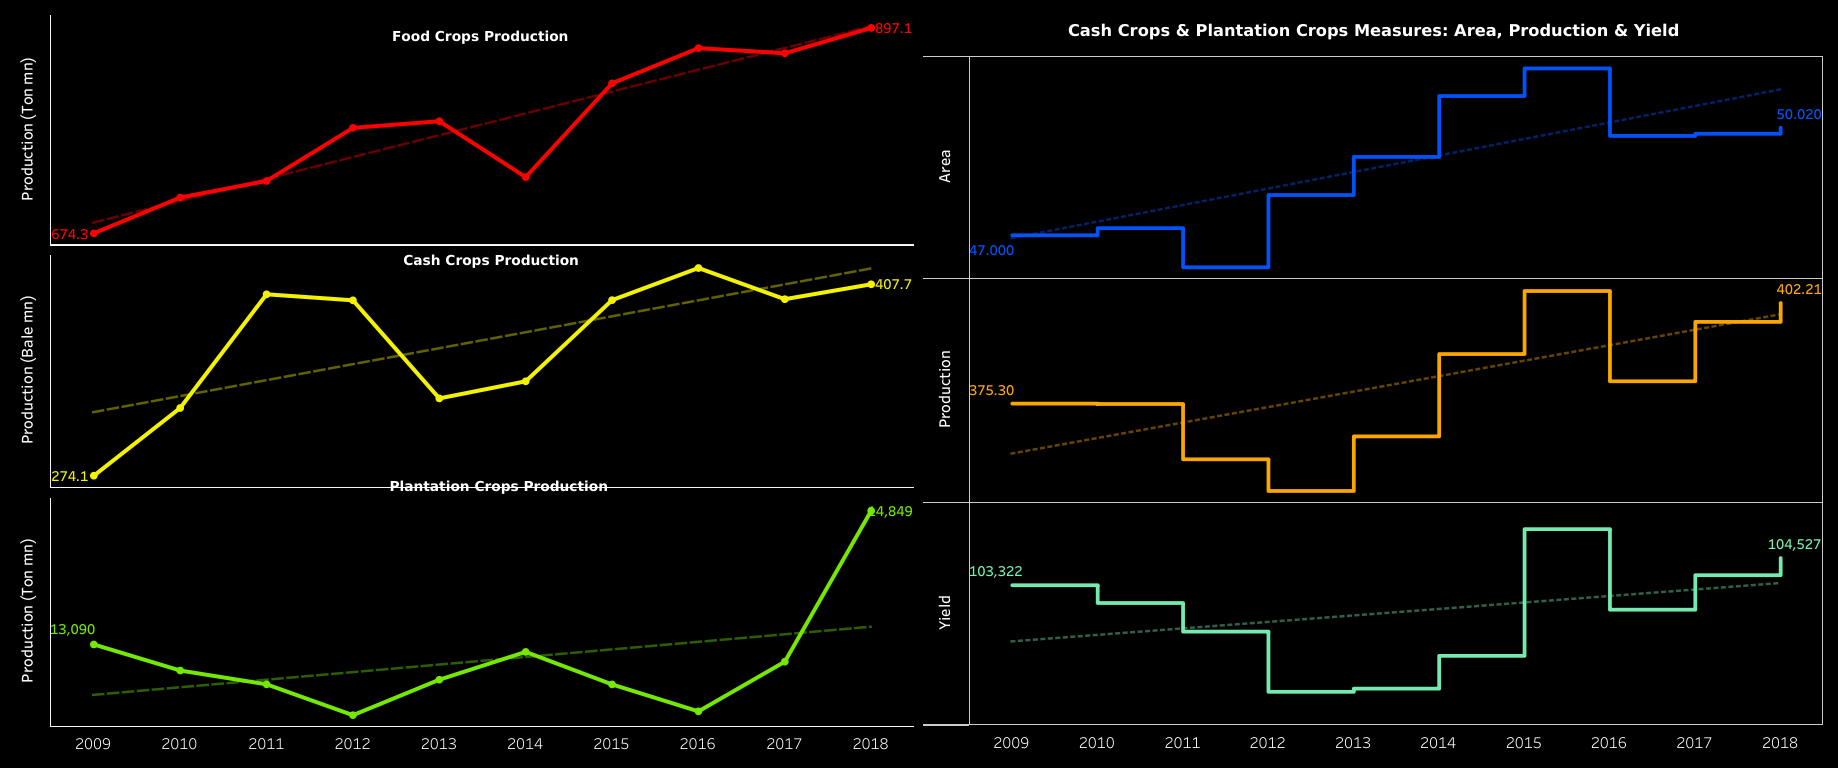

The dashboard page shown, as its layout file describes it:
{"tool":"tableau","page":{"name":"Overview of Crop Measures by Category","canvas":[1000,1000],"units":"permille","ordinal":3},"visuals":[{"type":"worksheet","title":"Food Crops Production","mark":"Automatic","rows":["Total Production (Ton mn)"],"cols":["Year (Food Grains & Oilseeds)"],"box":[4.8,9.4,494.6,314.3]},{"type":"text","box":[499.4,9.4,495.8,54.5]},{"type":"text","box":[211.3,22.2,99.6,47.5]},{"type":"worksheet","title":"Cash Crops & Plantation Crops Measures by Season","mark":"Line","rows":["Area (ha mn) (Area, Production & Yield CC&PC)","Production (Ton mn) (Area, Production & Yield CC&PC)","Yield (kg/ha) (Area, Production & Yield CC&PC)"],"cols":["Year (Area, Production & Yield CC&PC)"],"box":[499.4,63.9,495.8,926.7]},{"type":"text","box":[217.3,313.3,99.6,47.5]},{"type":"worksheet","title":"Cash Crops Production","mark":"Automatic","rows":["Production (Bale mn)"],"cols":["Year (Commercial Crops)"],"box":[4.8,323.7,494.6,318]},{"type":"text","box":[210.4,607.6,122.1,47.5]},{"type":"worksheet","title":"Plantation Crops Production","mark":"Automatic","rows":["Production (Ton mn) (Plantation Crops)"],"cols":["Year (Plantation Crops)"],"box":[4.8,641.8,494.6,348.9]}]}

Visuals, with their boxes on the dashboard's canvas, which has no fixed pixel size, in thousandths of its width and height (x1, y1, x2, y2). These are canvas units, not pixel positions in the 1838x768 screenshot, which may show the page scaled, cropped or inside an application window:
"Food Crops Production" worksheet: select_region(5, 9, 499, 324)
text: select_region(499, 9, 995, 64)
text: select_region(211, 22, 311, 70)
"Cash Crops & Plantation Crops Measures by Season" worksheet (Line marks): select_region(499, 64, 995, 991)
text: select_region(217, 313, 317, 361)
"Cash Crops Production" worksheet: select_region(5, 324, 499, 642)
text: select_region(210, 608, 332, 655)
"Plantation Crops Production" worksheet: select_region(5, 642, 499, 991)
